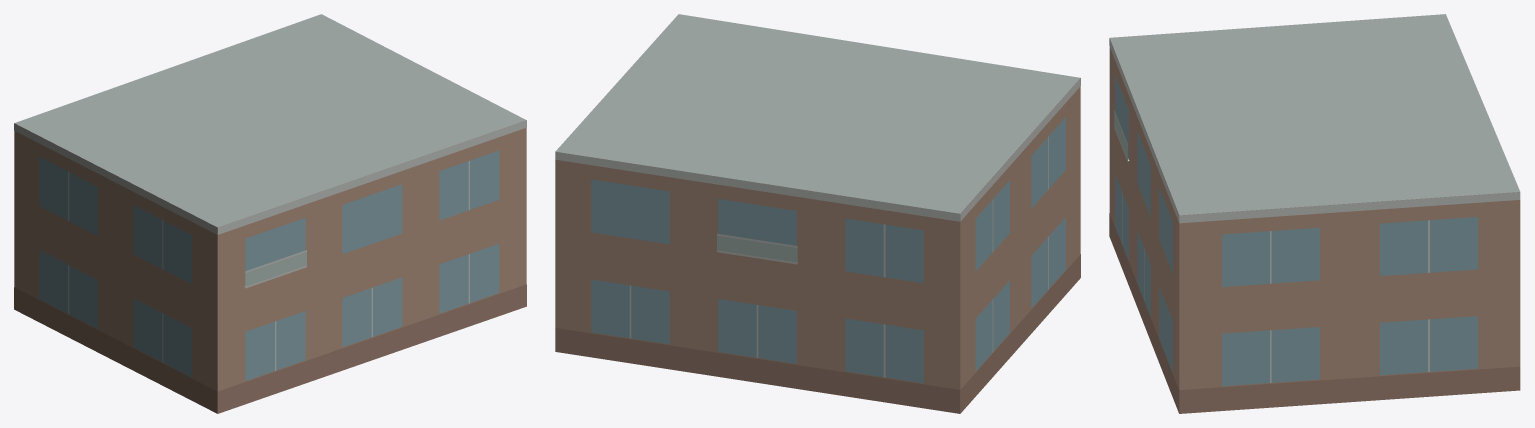
File: survey-upis-32700466.glb
3 renders of one model, left to right at view 1: azimuth 30°, elevation 25°; view 2: azimuth 150°, elevation 25°; view 3: azimuth 270°, elevation 25°, orthographic. The views are drawn at different scales.
Visible parts, largest first — view 1: survey-upis-32700466.tmp; view 2: survey-upis-32700466.tmp; view 3: survey-upis-32700466.tmp.
Boxes of the visible parts, left/top/right/bottom form: survey-upis-32700466.tmp: left=14, top=14, right=526, bottom=413; survey-upis-32700466.tmp: left=555, top=14, right=1080, bottom=413; survey-upis-32700466.tmp: left=1109, top=14, right=1520, bottom=413.
Bounding box in the file's own units: 13.28 × 6.1 × 11.46.
